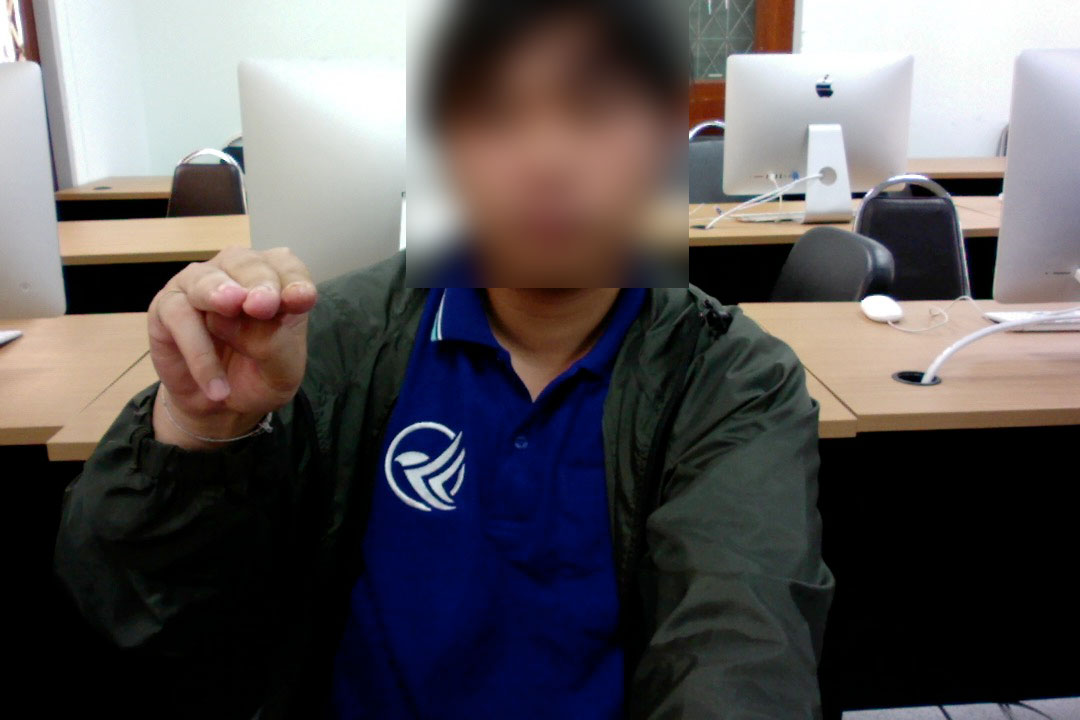mor: (141, 227, 321, 425)
